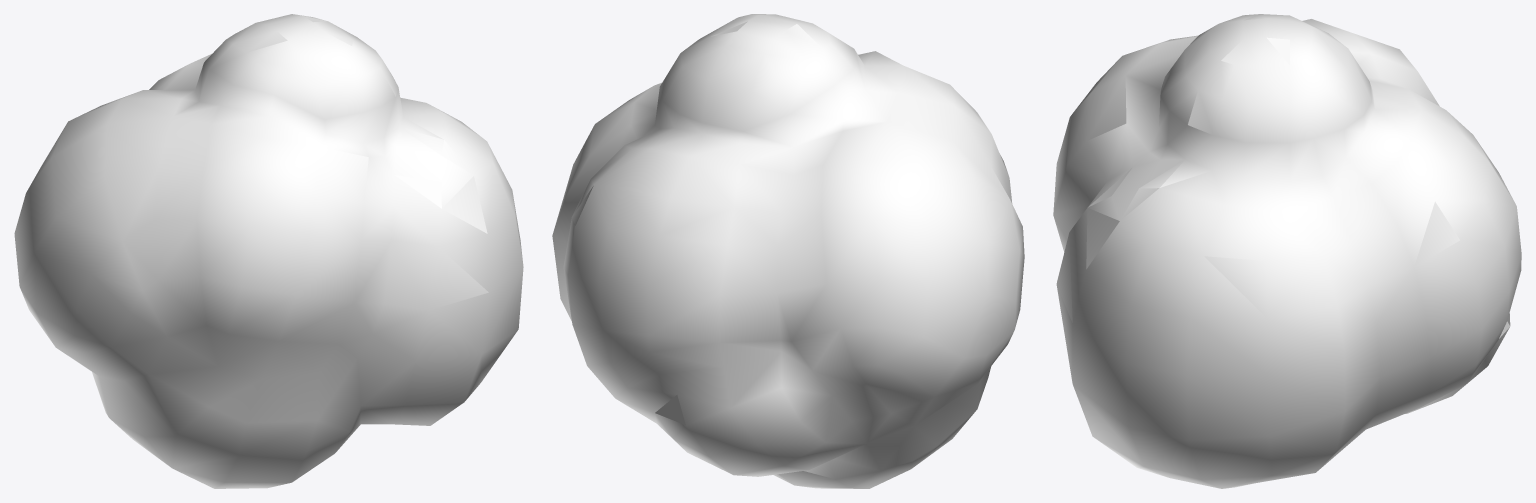
Rendered from running_puff.FBX.
3 views of the same model, side by side, from view 1: azimuth 30°, elevation 25°; view 2: azimuth 150°, elevation 25°; view 3: azimuth 270°, elevation 25° (orthographic). The views are drawn at different scales.
Visible parts, largest first — view 1: smokepuff; view 2: smokepuff; view 3: smokepuff.
Boxes of the visible parts, x1,y1,x2,y2 form: smokepuff: (14, 14, 523, 488); smokepuff: (552, 14, 1024, 488); smokepuff: (1053, 14, 1521, 488).
Size of the model in its own units: 56.58 by 53.32 by 49.64.
